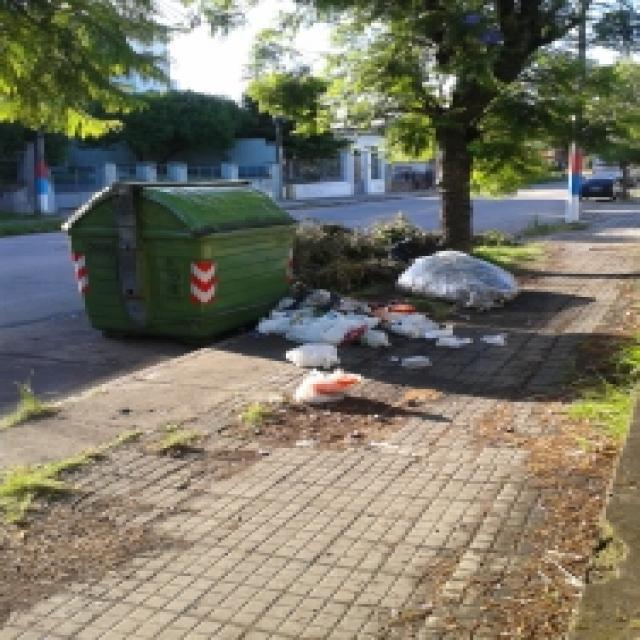garbage: (245, 276, 453, 386), (398, 240, 521, 310)
